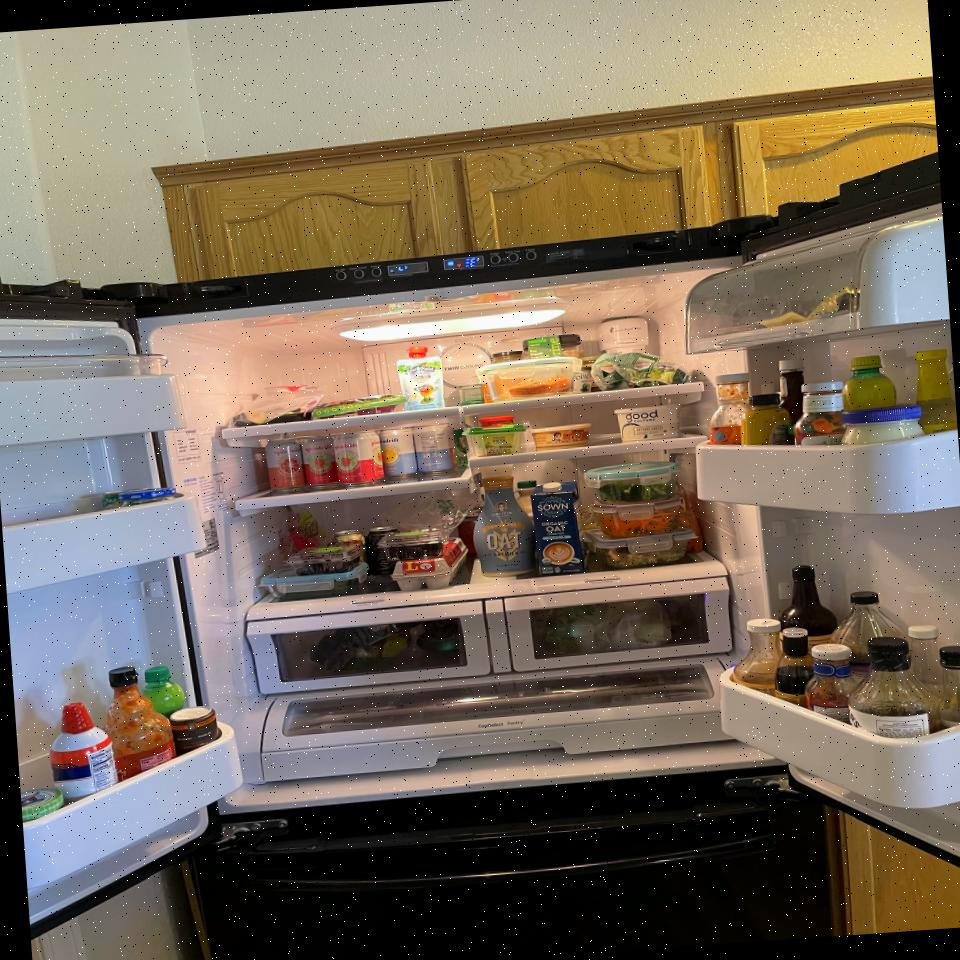Huevos: (390, 537, 472, 592)
Mantequilla: (802, 284, 864, 321)
